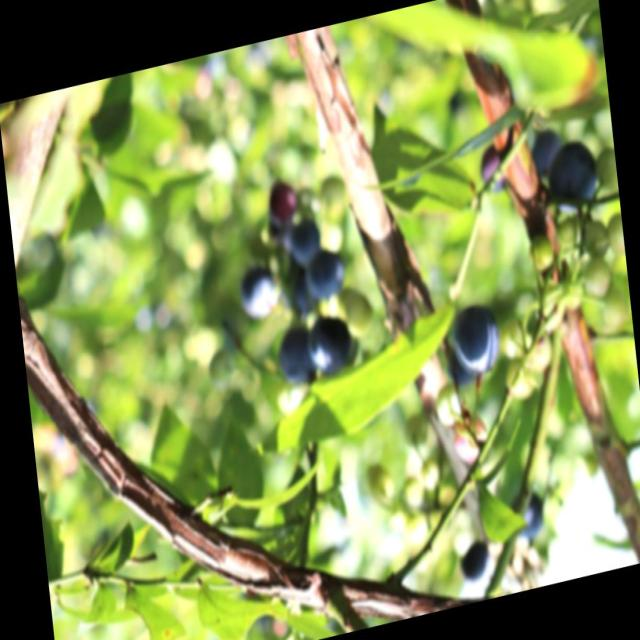blueberry: (546, 136, 599, 214), (450, 302, 502, 380), (303, 309, 352, 378), (274, 328, 315, 390), (281, 262, 319, 325), (306, 246, 347, 304), (240, 262, 278, 322), (529, 128, 565, 180), (288, 218, 324, 270)
blueberry-unripe: (502, 354, 534, 402), (522, 332, 552, 379), (586, 260, 612, 300), (526, 240, 551, 273)
